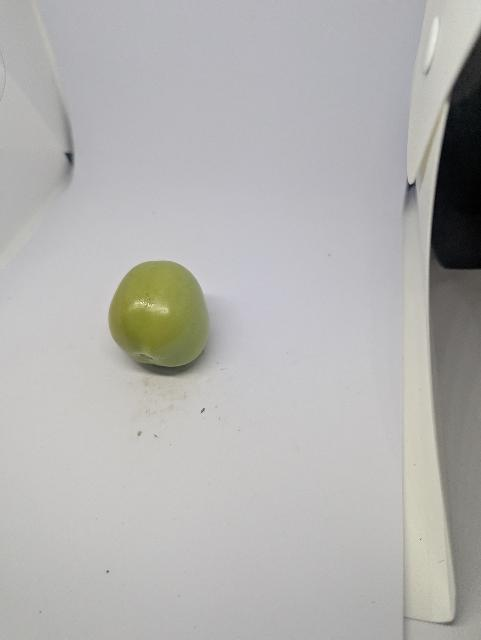green: (106, 248, 212, 390)
